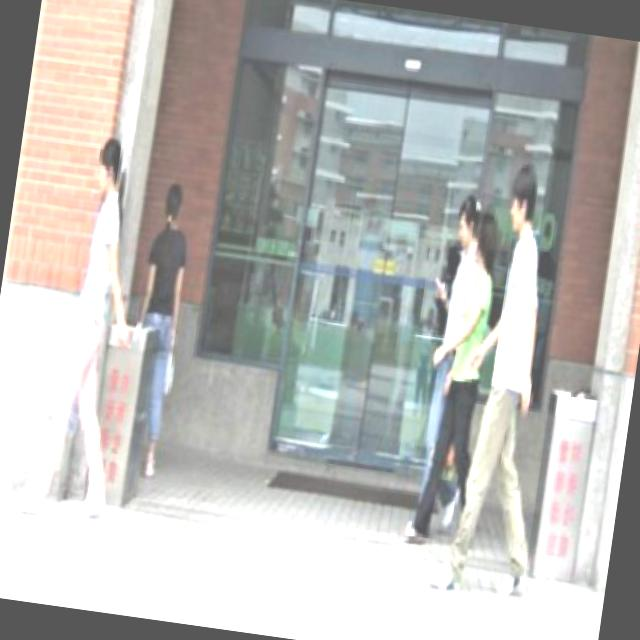Person: (429, 152, 585, 601), (12, 124, 160, 530), (406, 201, 510, 558), (110, 170, 206, 476)
